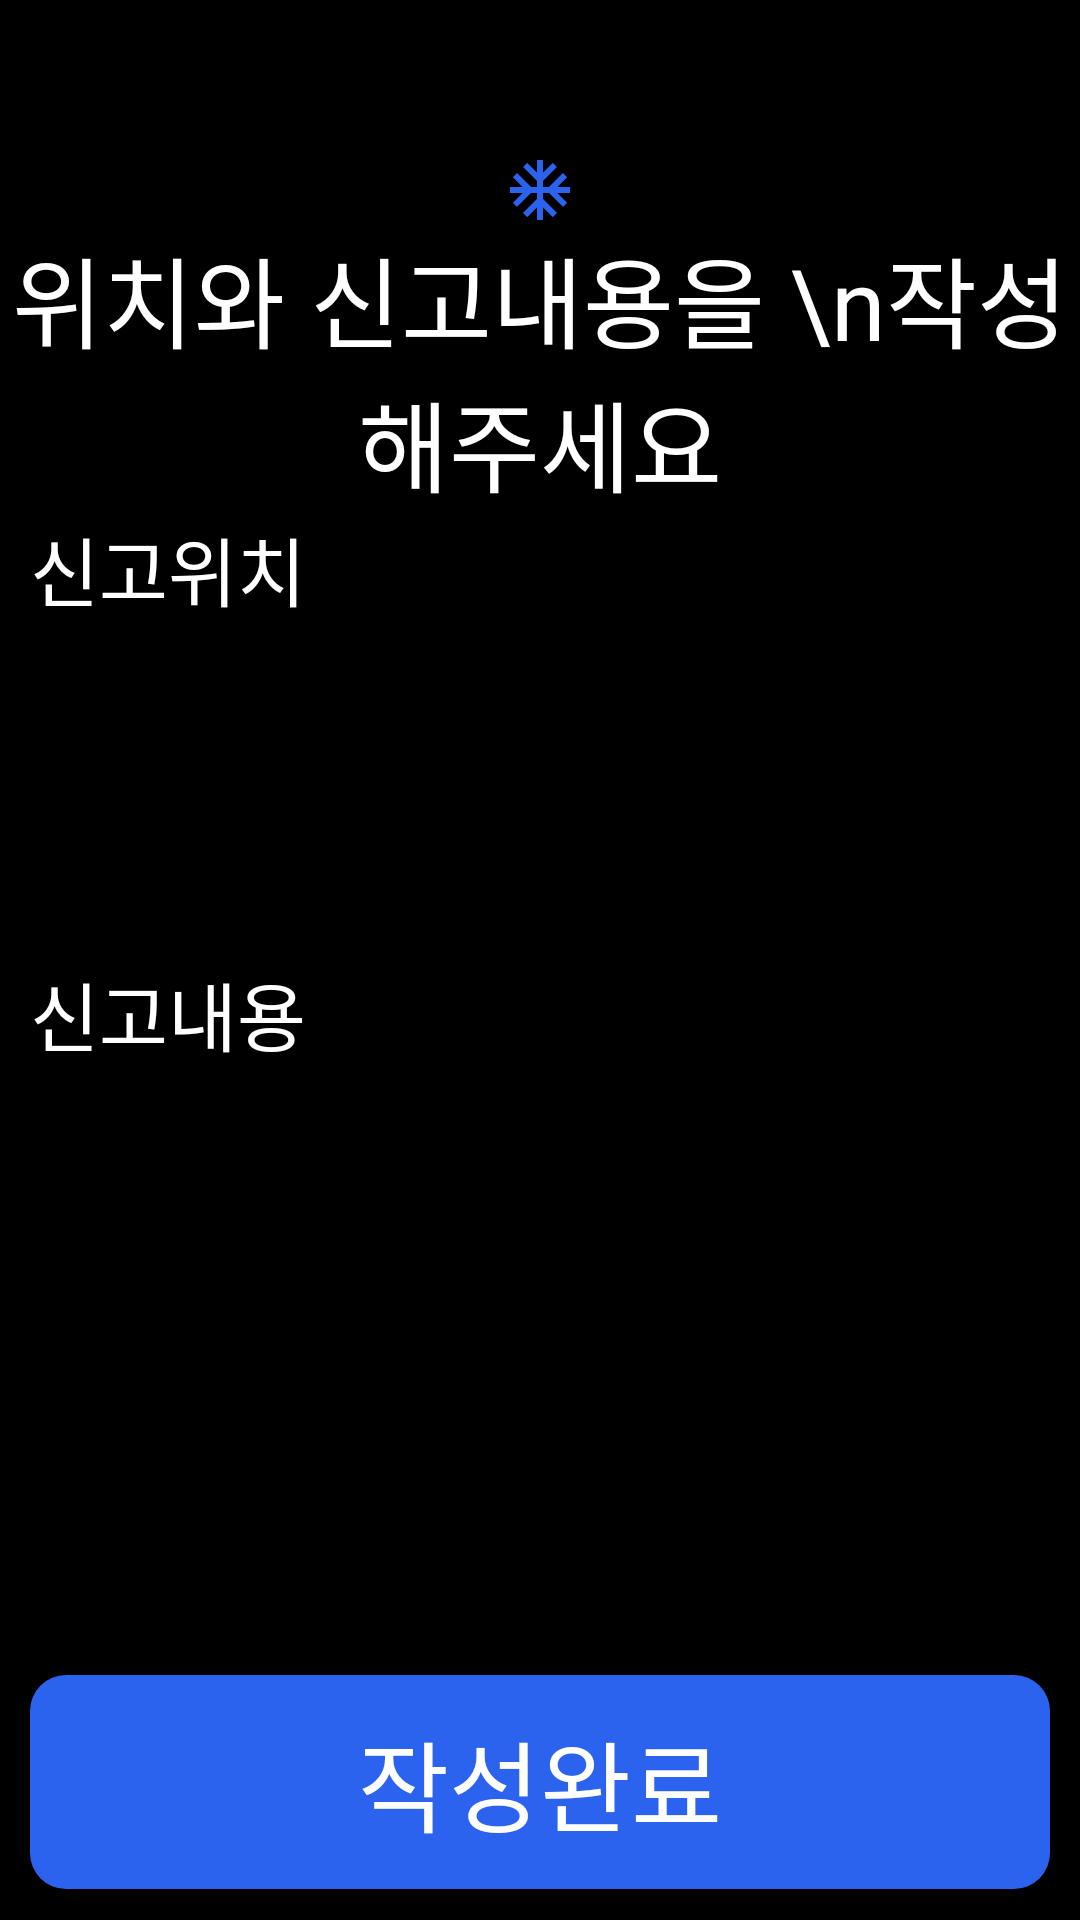

Named icons in this screenshot (1080*1920) and their bounding boxes, (x1, y1, x2, y2):
ac unit: (510, 160, 570, 220)
